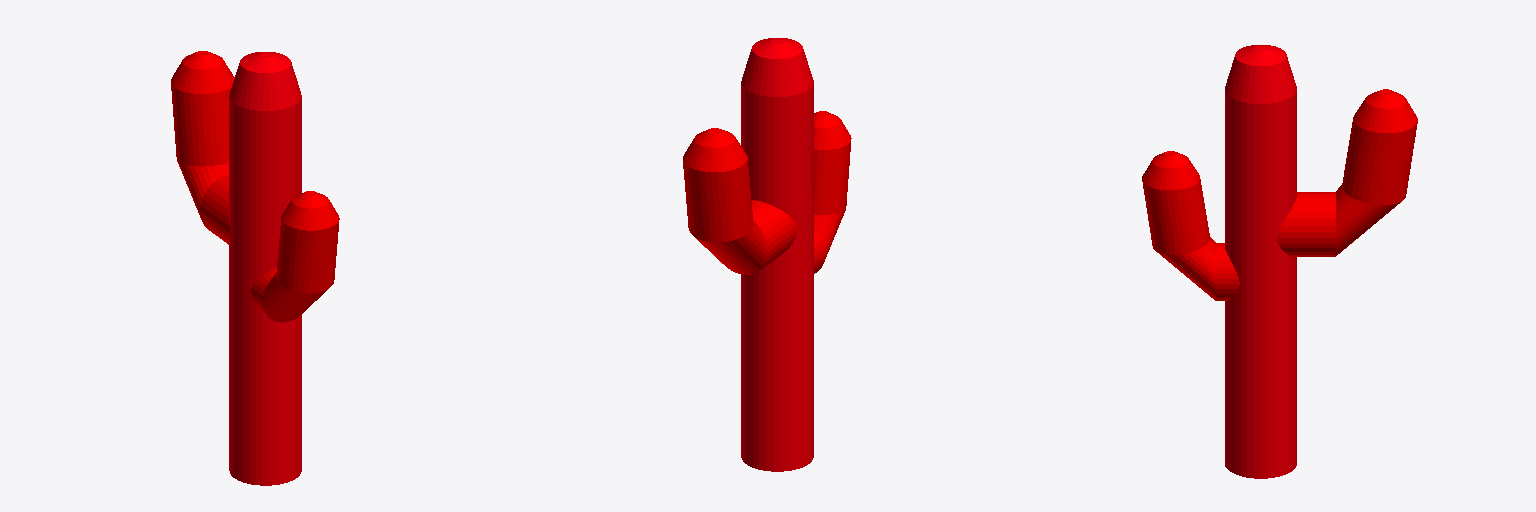
File: cactus.obj
3 renders of one model, left to right at view 1: azimuth 30°, elevation 25°; view 2: azimuth 150°, elevation 25°; view 3: azimuth 270°, elevation 25°, orthographic.
Visible parts, largest first — view 1: Cylinder.002; view 2: Cylinder.002; view 3: Cylinder.002.
Boxes of the visible parts, box(x1,y1,x2,y2) form: Cylinder.002: box(171, 51, 339, 485); Cylinder.002: box(683, 38, 851, 471); Cylinder.002: box(1142, 45, 1417, 478).
Bounding box in the file's own units: 0.1608 × 1.02 × 0.6132.